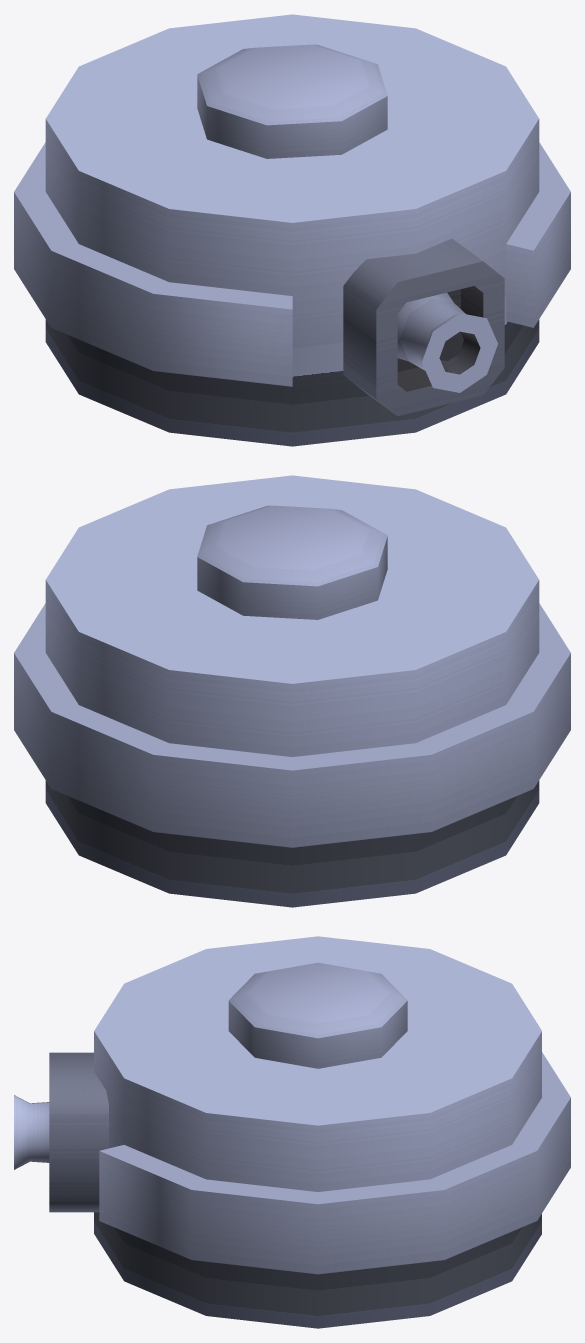
File: tower-defense-kit--tower-round-middle-b.glb
3 views of the same model, one above another, from view 1: azimuth 30°, elevation 25°; view 2: azimuth 150°, elevation 25°; view 3: azimuth 270°, elevation 25° (orthographic). The views are drawn at different scales.
Parts seen in each view (by area): view 1: tower-round-middle-b; view 2: tower-round-middle-b; view 3: tower-round-middle-b.
Boxes of the visible parts, x1,y1,x2,y2 form: tower-round-middle-b: [14, 14, 570, 446]; tower-round-middle-b: [14, 475, 570, 907]; tower-round-middle-b: [14, 936, 570, 1328].
Size of the model in its own units: 1.13 by 0.6 by 1.24.
Materials: 1 (1 with a texture image).
